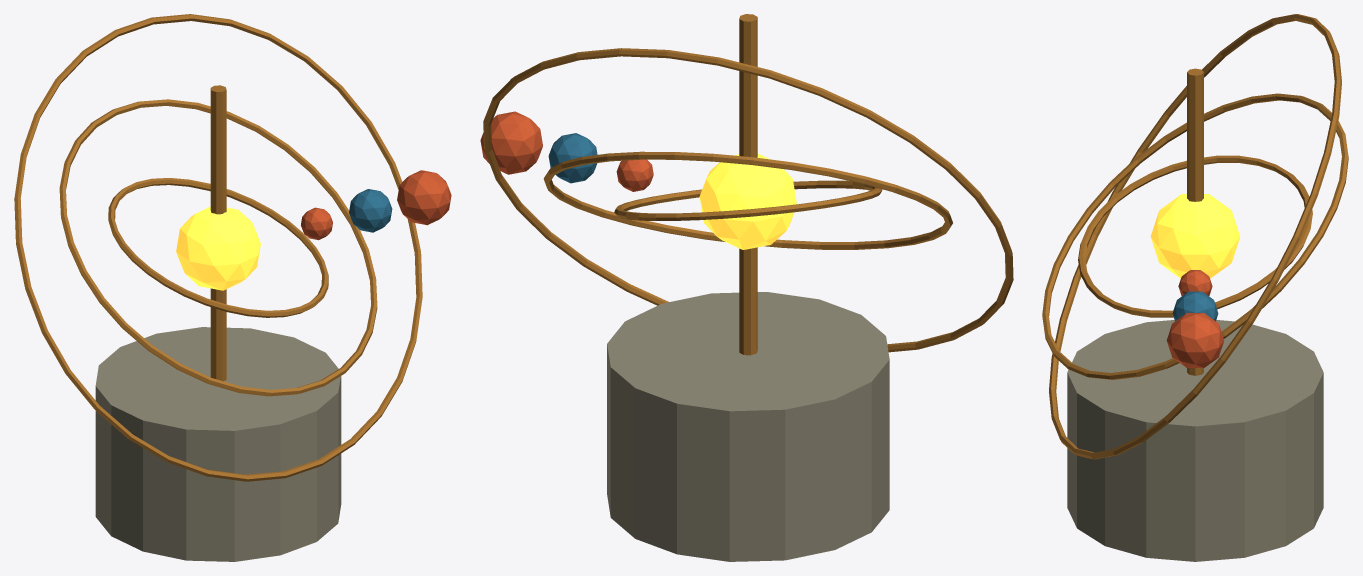
File: orrery.glb
The picture shows the model from 3 angles, left to right: view 1: azimuth 30°, elevation 25°; view 2: azimuth 150°, elevation 25°; view 3: azimuth 270°, elevation 25°; orthographic projection. The views are drawn at different scales.
Parts seen in each view (by area): view 1: Brass celestial gardenMesh; view 2: Brass celestial gardenMesh; view 3: Brass celestial gardenMesh.
Part boxes in pixels (left/top/right/bottom): Brass celestial gardenMesh: left=14, top=14, right=451, bottom=561; Brass celestial gardenMesh: left=480, top=14, right=1013, bottom=561; Brass celestial gardenMesh: left=1042, top=14, right=1348, bottom=561.
Bounding box in the file's own units: 4.87 × 4.72 × 2.87.
